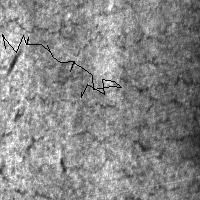crazing: (1, 94, 120, 174), (131, 32, 200, 165), (2, 34, 121, 97), (1, 10, 134, 62)
